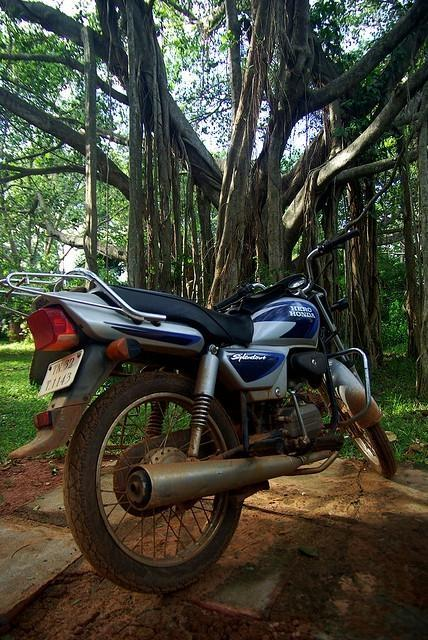motorcycle: (0, 228, 397, 592)
